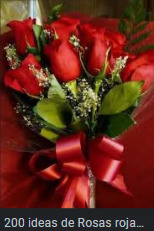RedRose: (86, 24, 125, 74), (43, 39, 84, 79), (7, 58, 46, 100), (130, 48, 154, 102), (5, 21, 41, 56)
